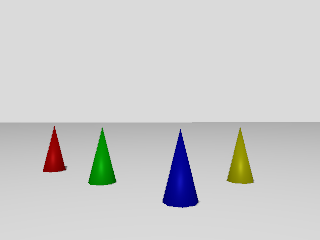blue: (156, 127, 199, 206)
green: (86, 124, 118, 188)
red: (42, 125, 66, 172)
yellow: (222, 126, 258, 186)
